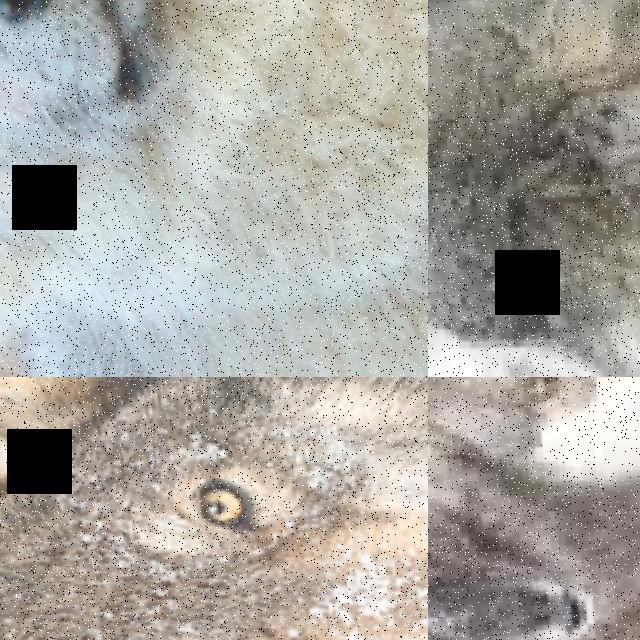wolf: (0, 0, 428, 377), (0, 377, 428, 640), (428, 0, 640, 377), (428, 377, 640, 640), (428, 377, 640, 549)
